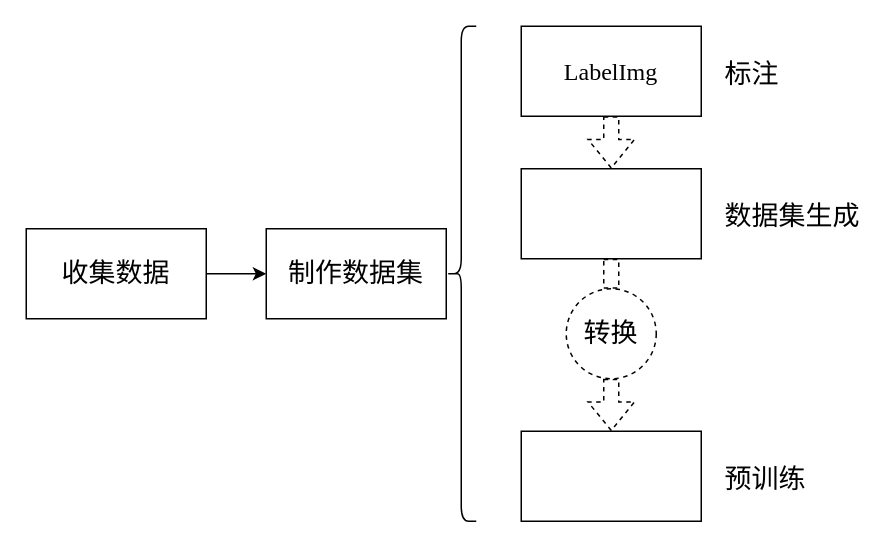
The diagram is 893 pixels wide and 548 high, and some of its shapes have lost their labels. The shapes that lost their labels are listed below. From the top down, each one's box as (x1, y1, x2, y2) in pixels, then its label:
(520, 167, 701, 259): VOC
(520, 430, 701, 521): Darknet53
